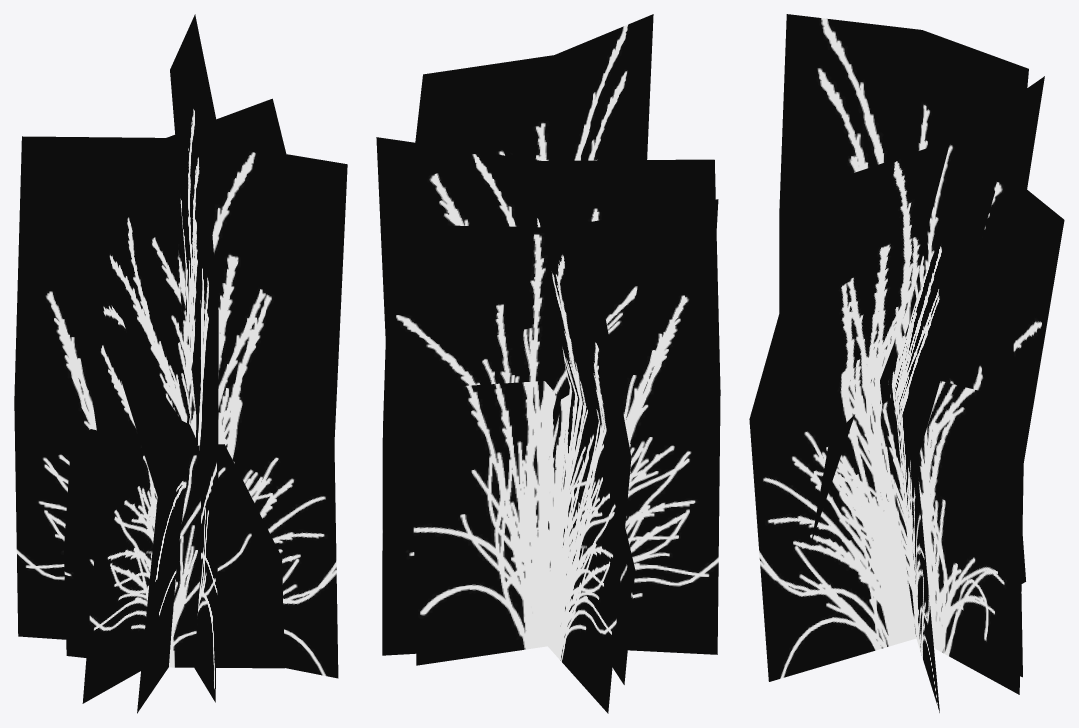
Rendered from Wheat1.fbx.
The picture shows the model from 3 angles, left to right: view 1: azimuth 30°, elevation 25°; view 2: azimuth 150°, elevation 25°; view 3: azimuth 270°, elevation 25°; orthographic projection. The views are drawn at different scales.
Visible parts, largest first — view 1: Wheat1; view 2: Wheat1; view 3: Wheat1.
Boxes of the visible parts, x1,y1,x2,y2 form: Wheat1: (14, 14, 347, 713); Wheat1: (376, 14, 720, 713); Wheat1: (749, 14, 1064, 712).
Bounding box in the file's own units: 83.16 × 155 × 73.31.
1 material, 1 textured.
